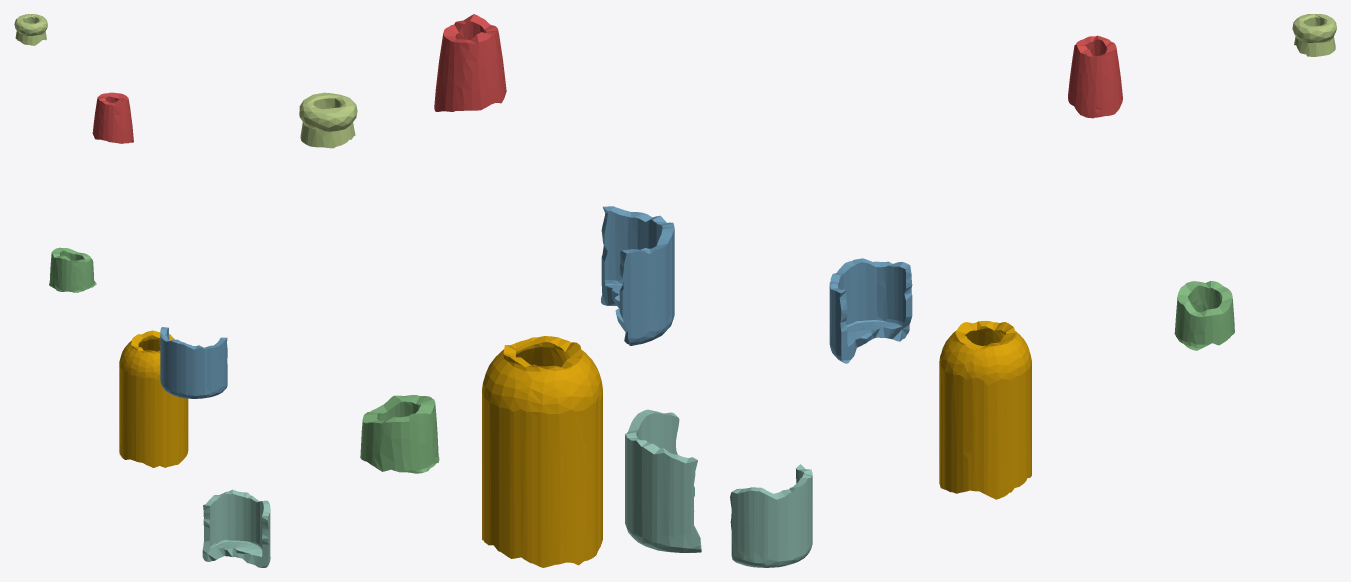
File: fractured_60_6pcs_transformed.glb
3 renders of one model, left to right at view 1: azimuth 30°, elevation 25°; view 2: azimuth 150°, elevation 25°; view 3: azimuth 270°, elevation 25°, orthographic. The views are drawn at different scales.
Parts seen in each view (by area): view 1: piece_0.obj, piece_4.obj, piece_2.obj, piece_1.obj, piece_3.obj, piece_5.obj; view 2: piece_0.obj, piece_4.obj, piece_2.obj, piece_1.obj, piece_3.obj, piece_5.obj; view 3: piece_0.obj, piece_2.obj, piece_4.obj, piece_1.obj, piece_3.obj, piece_5.obj.
Boxes of the visible parts, x1,y1,x2,y2 form: piece_0.obj: (119, 330, 188, 467); piece_4.obj: (202, 489, 270, 567); piece_2.obj: (160, 327, 227, 398); piece_1.obj: (92, 92, 133, 143); piece_3.obj: (49, 247, 96, 292); piece_5.obj: (14, 14, 47, 45); piece_0.obj: (482, 336, 602, 567); piece_4.obj: (625, 409, 701, 552); piece_2.obj: (601, 206, 674, 345); piece_1.obj: (434, 14, 506, 111); piece_3.obj: (360, 395, 439, 473); piece_5.obj: (299, 92, 357, 148); piece_0.obj: (939, 321, 1031, 499); piece_2.obj: (829, 258, 912, 363); piece_4.obj: (730, 464, 812, 567); piece_1.obj: (1068, 35, 1122, 118); piece_3.obj: (1174, 281, 1234, 350); piece_5.obj: (1292, 14, 1336, 56).
Bounding box in the file's own units: 0.2541 × 1.6 × 1.66.
